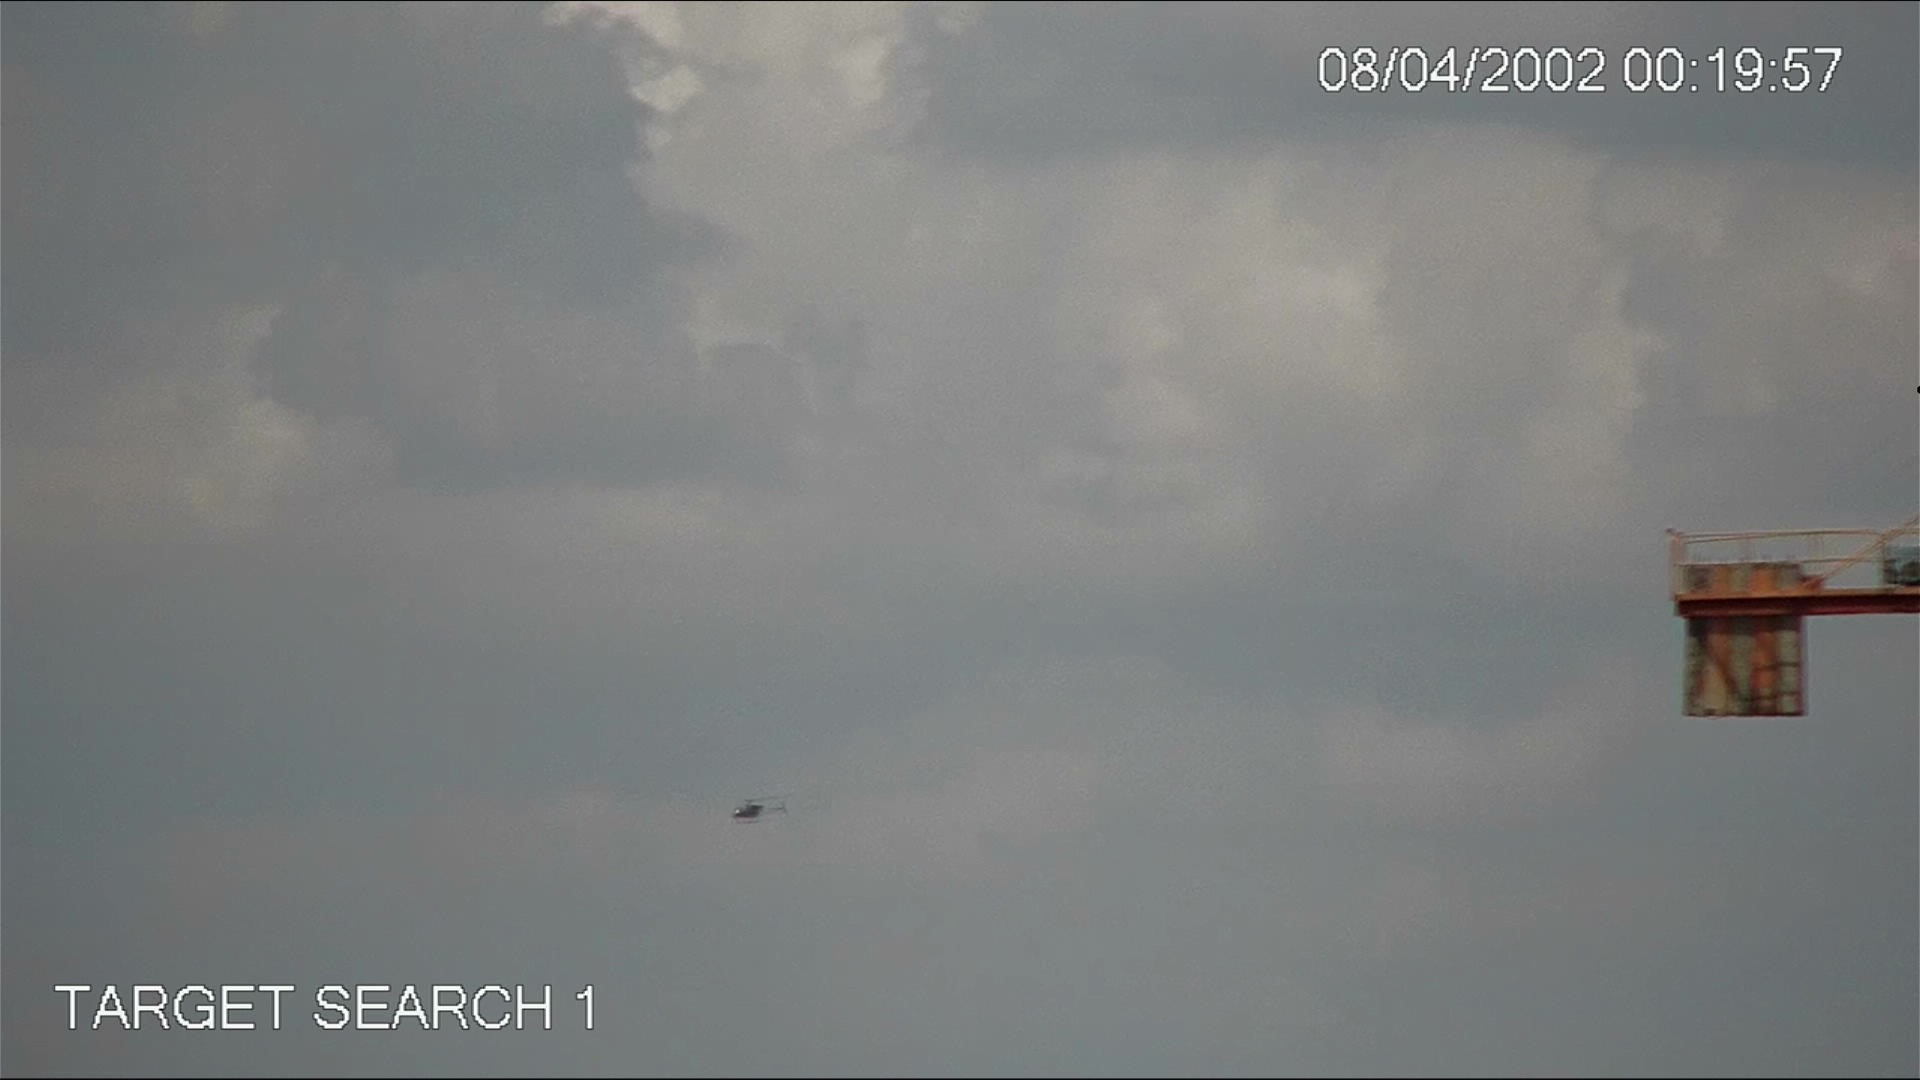SU_30: (725, 790, 795, 825)
